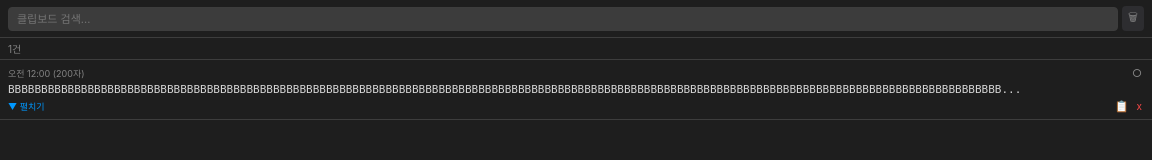
Test: ClipboardPanel › ▼ 펼치기 클릭 시 접기 버튼으로 바뀐다
Step 1. Click the button "▼ 펼치기" → (26, 106), box [8,100,44,112]
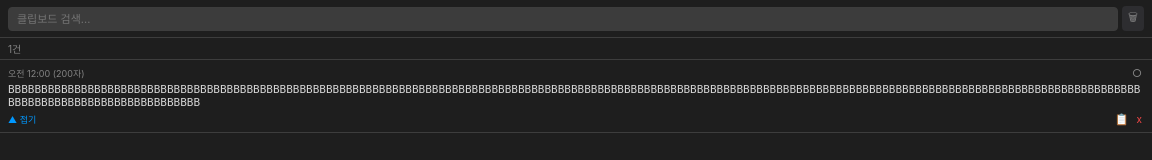
Now the button "▲ 접기" is shown, box [8,112,36,126]
